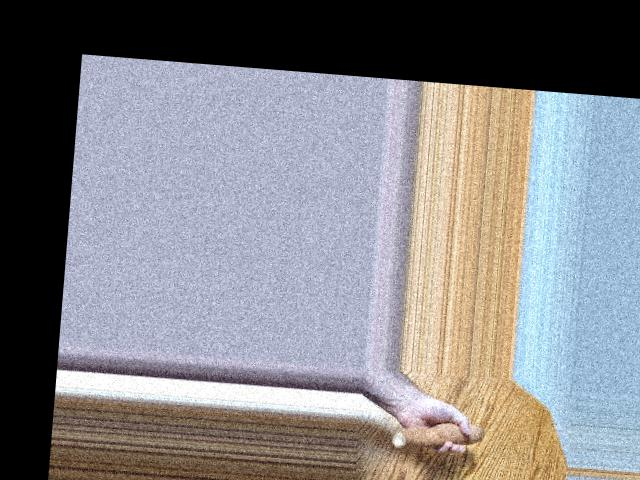sweet_potato: (389, 413, 492, 452)
